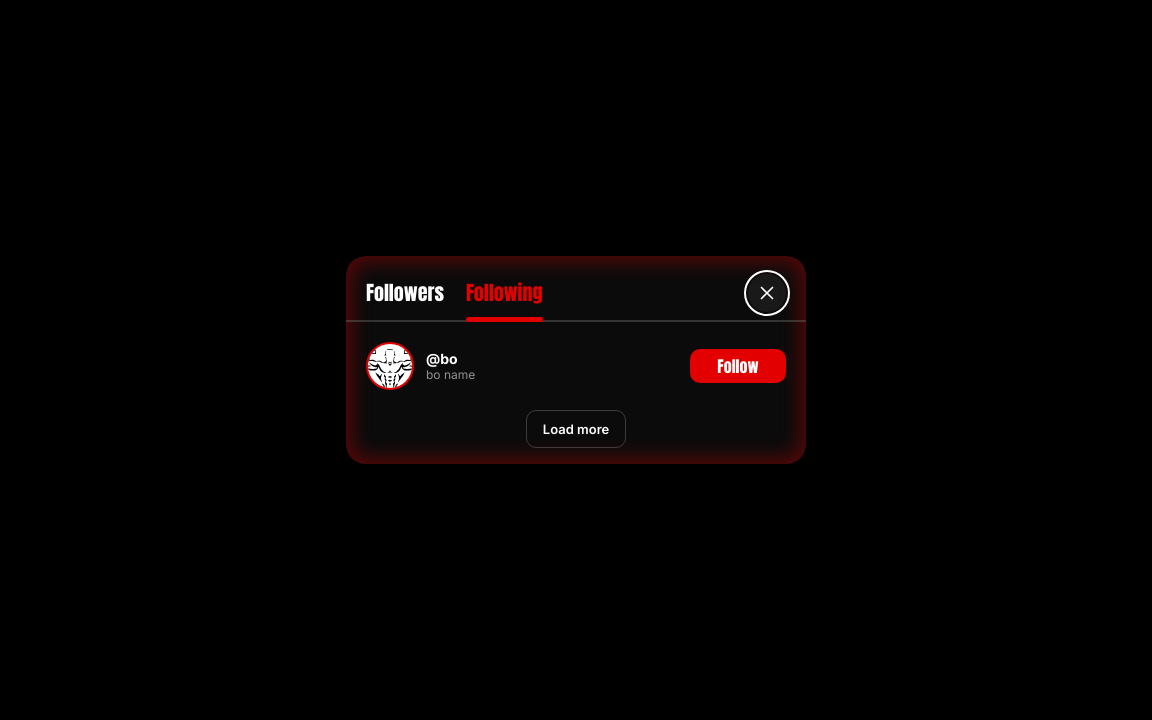
Test: FollowList › keeps the people already shown when the next page fails
The width and height of the screenshot is (1152, 720).
Expected: the text "@bo" is shown, [426,350,458,367]
Click the button "Load more". click: (576, 429)
box: [526,410,626,448]
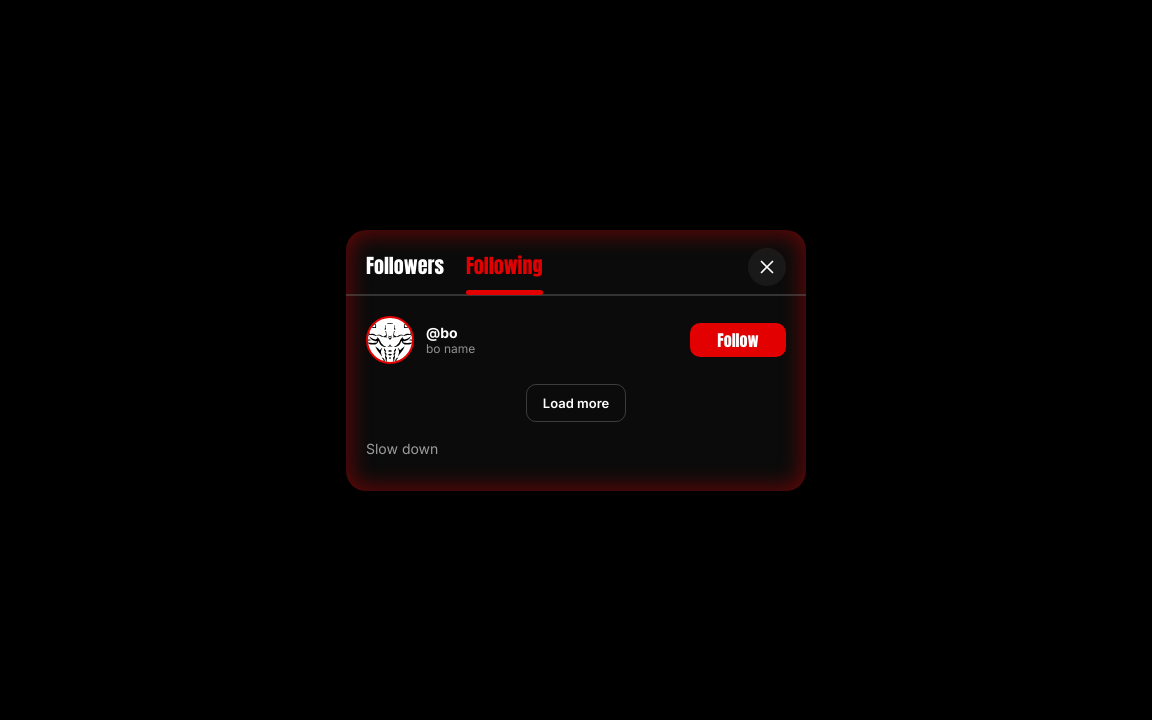
Expected: the text "@bo" is shown, [426,324,458,340]
Now the message reads "Slow down", box [366,440,438,456]
